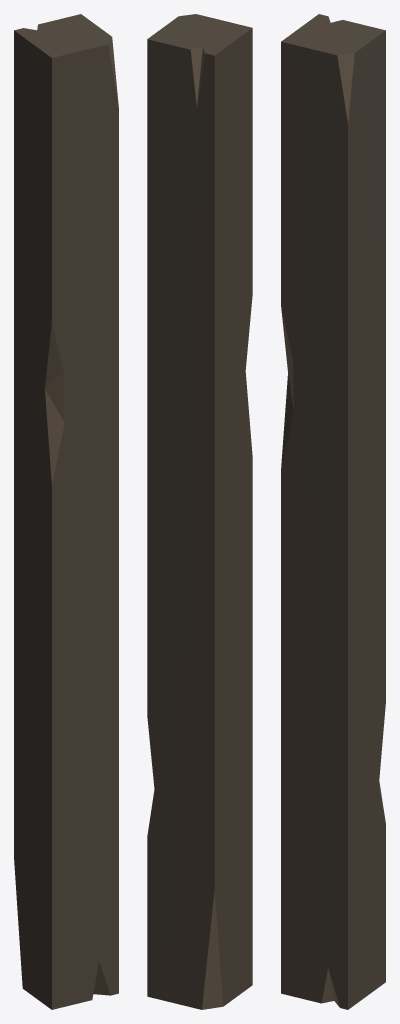
Rendered from kingdom_SM_Prop_Beam_05.gltf.
3 renders of one model, left to right at view 1: azimuth 30°, elevation 25°; view 2: azimuth 150°, elevation 25°; view 3: azimuth 330°, elevation 25°, orthographic.
Parts seen in each view (by area): view 1: SM_Prop_Beam_05; view 2: SM_Prop_Beam_05; view 3: SM_Prop_Beam_05.
Boxes of the visible parts, x1,y1,x2,y2 form: SM_Prop_Beam_05: [14, 14, 118, 1009]; SM_Prop_Beam_05: [147, 14, 252, 1009]; SM_Prop_Beam_05: [281, 14, 385, 1009].
Bounding box in the file's own units: 0.3684 × 5 × 0.3601.
1 material, 1 textured.
